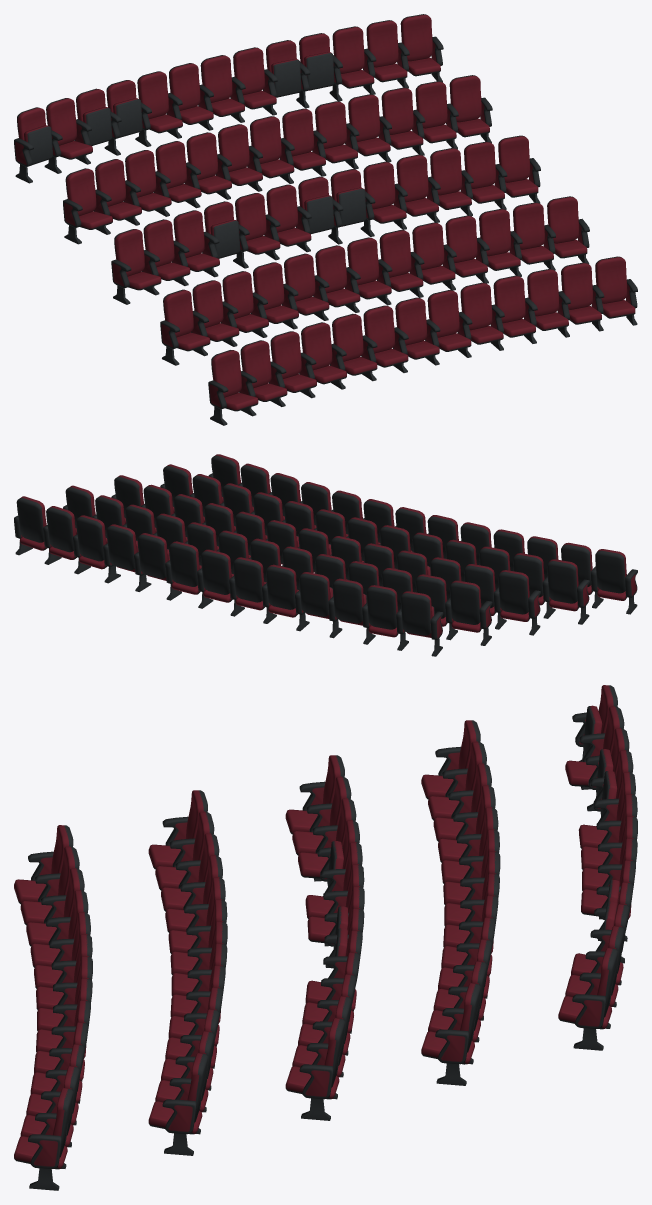
The model's file is CinemaArmChair01a.FBX.
3 renders of one model, top to bottom at view 1: azimuth 30°, elevation 25°; view 2: azimuth 150°, elevation 25°; view 3: azimuth 270°, elevation 25°, orthographic. The views are drawn at different scales.
Parts seen in each view (by area): view 1: CinemaArmChair01a; view 2: CinemaArmChair01a; view 3: CinemaArmChair01a.
Part boxes in pixels (x1,y1,x2,y2): CinemaArmChair01a: (14,14,637,425); CinemaArmChair01a: (14,454,637,656); CinemaArmChair01a: (14,685,637,1190).
Size of the model in its own units: 1124 by 409 by 1028.
